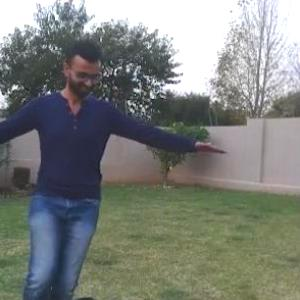land: (0, 57, 176, 295)
